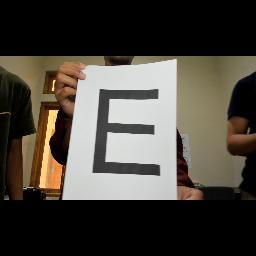e: (86, 85, 170, 183)
